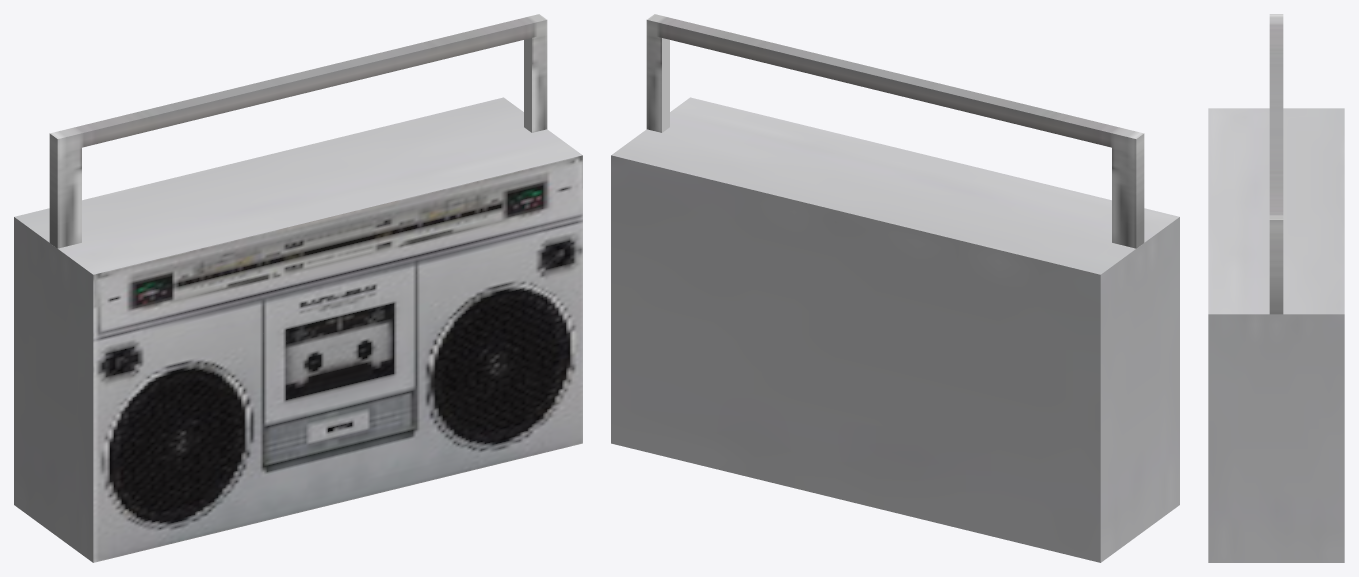
File: Boombox.fbx_Scene.fbx
3 views of the same model, side by side, from view 1: azimuth 30°, elevation 25°; view 2: azimuth 150°, elevation 25°; view 3: azimuth 270°, elevation 25° (orthographic). The views are drawn at different scales.
Visible parts, largest first — view 1: Boombox; view 2: Boombox; view 3: Boombox.
Part boxes in pixels (x1,y1,x2,y2): Boombox: (14, 14, 582, 562); Boombox: (611, 14, 1179, 562); Boombox: (1208, 14, 1344, 562).
Size of the model in its own units: 67.2 by 52.16 by 18.82.
Materials: 1 (1 with a texture image).
